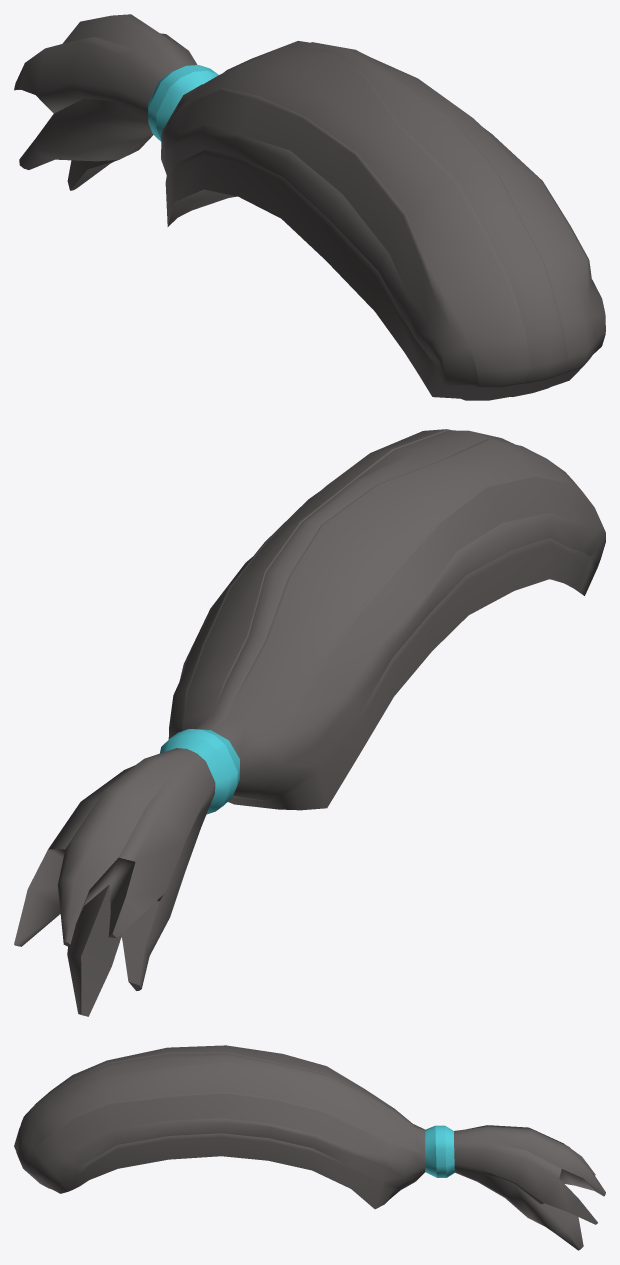
File: Hair_21_04.fbx
3 views of the same model, one above another, from view 1: azimuth 30°, elevation 25°; view 2: azimuth 150°, elevation 25°; view 3: azimuth 270°, elevation 25° (orthographic). The views are drawn at different scales.
Visible parts, largest first — view 1: Hair_21_04; view 2: Hair_21_04; view 3: Hair_21_04.
Part boxes in pixels (x1,y1,x2,y2): Hair_21_04: [14, 14, 605, 400]; Hair_21_04: [14, 429, 605, 1016]; Hair_21_04: [14, 1045, 605, 1250].
Size of the model in its own units: 9.87 by 16.09 by 43.76.
